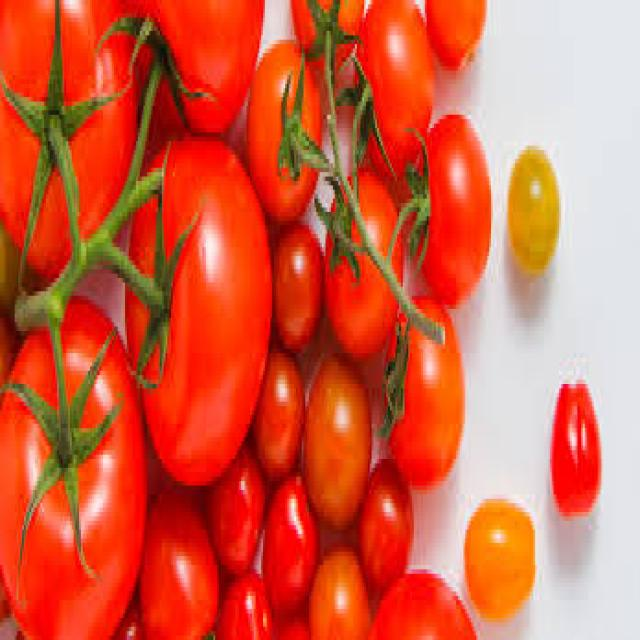Tomato: (0, 257, 153, 640), (120, 125, 276, 480), (0, 0, 136, 278), (397, 111, 499, 326), (383, 288, 477, 493), (131, 0, 259, 149), (297, 339, 378, 539), (352, 0, 438, 176), (320, 172, 404, 351), (242, 20, 322, 207), (134, 474, 222, 640), (504, 131, 576, 312), (543, 357, 610, 543), (458, 491, 538, 636), (364, 546, 485, 640), (212, 417, 270, 586), (354, 452, 416, 596), (253, 350, 307, 500), (272, 229, 328, 368), (263, 465, 312, 615), (291, 0, 366, 89), (427, 0, 497, 92), (309, 530, 365, 639), (221, 562, 275, 640)
